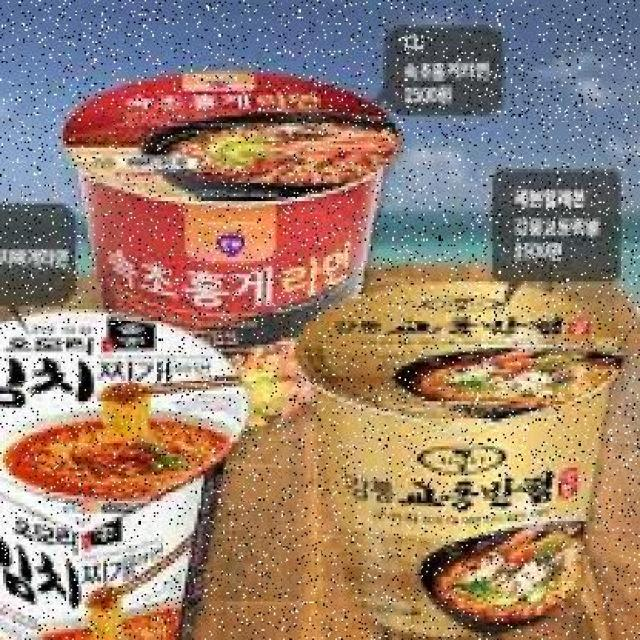Miscellaneous: (67, 59, 402, 439), (314, 292, 632, 638), (0, 301, 251, 640)
